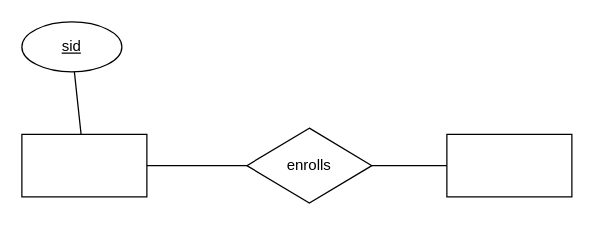
This 594x225 diagram has some shape labels left out. Here are the shapes that lost their labels. From the top down, the box of each, then its label:
(21, 133, 147, 197): Student
(446, 133, 572, 197): Course
